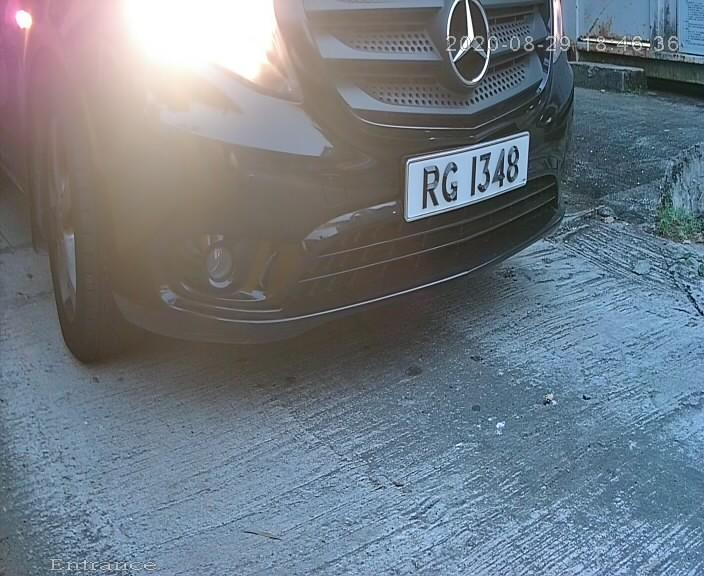License Plate: (393, 129, 535, 224)
